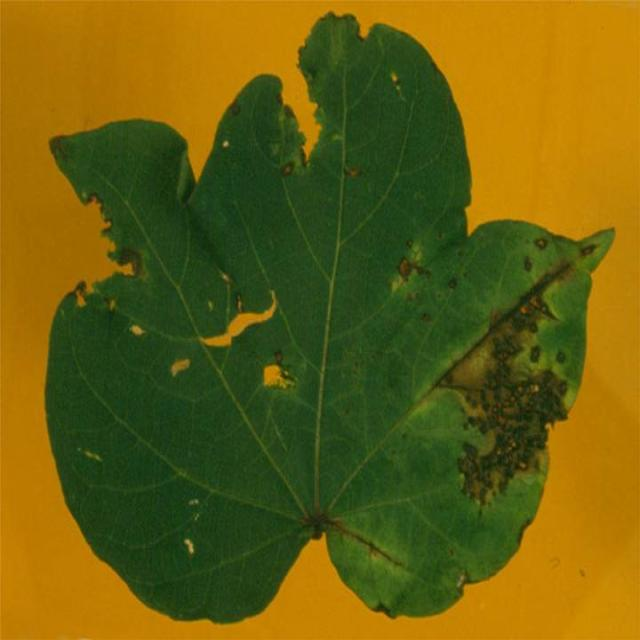Bacterial Blight: (405, 226, 576, 525)
